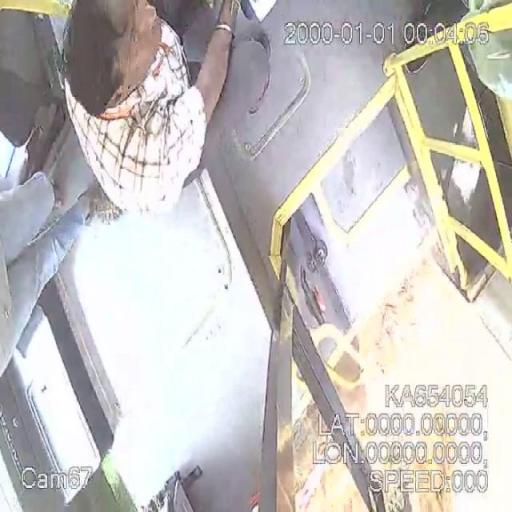persona: (58, 0, 242, 218)
